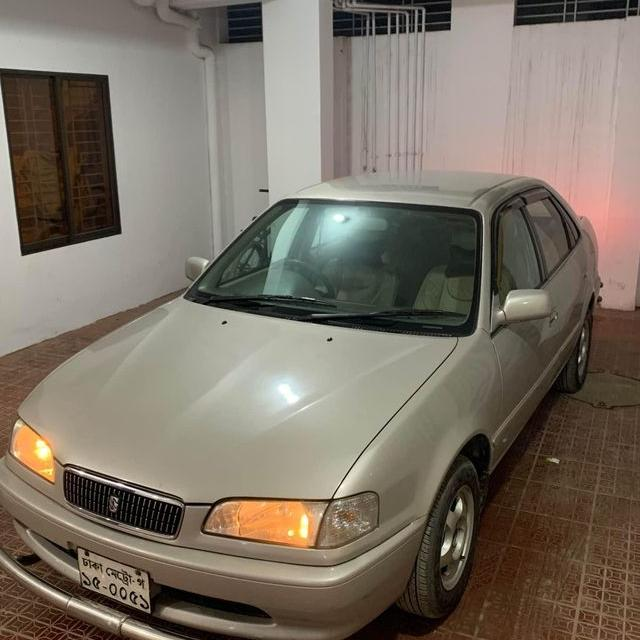Number-Plate: (61, 549, 161, 606)
